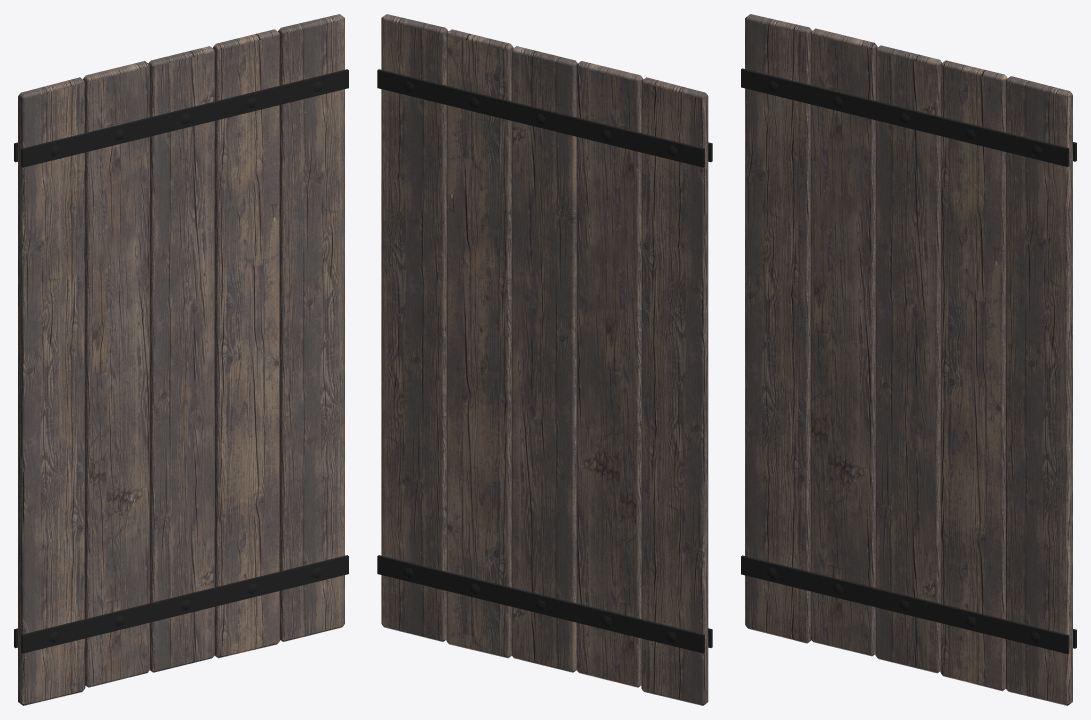
The model's file is WoodDoor01.FBX.
3 renders of one model, left to right at view 1: azimuth 30°, elevation 25°; view 2: azimuth 150°, elevation 25°; view 3: azimuth 330°, elevation 25°, orthographic.
Parts seen in each view (by area): view 1: Box009; view 2: Box009; view 3: Box009.
Part boxes in pixels (x1,y1,x2,y2): Box009: [14, 14, 348, 705]; Box009: [377, 14, 712, 705]; Box009: [741, 14, 1076, 705].
Size of the model in its own units: 42.31 by 76.05 by 2.65.
